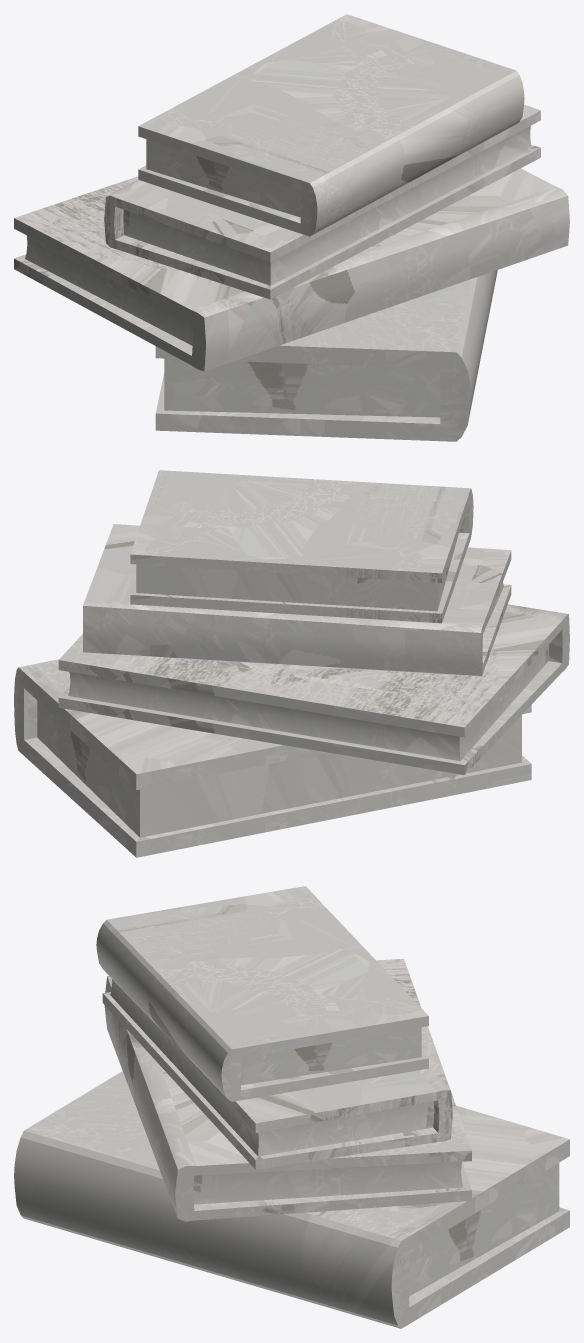
File: pilaBook.fbx
The picture shows the model from 3 angles, top to bottom: view 1: azimuth 30°, elevation 25°; view 2: azimuth 150°, elevation 25°; view 3: azimuth 270°, elevation 25°; orthographic projection. The views are drawn at different scales.
Visible parts, largest first — view 1: defaultMaterial.002, defaultMaterial.004, defaultMaterial.005, defaultMaterial.003; view 2: defaultMaterial.002, defaultMaterial.005, defaultMaterial.004, defaultMaterial.003; view 3: defaultMaterial.005, defaultMaterial.002, defaultMaterial.004, defaultMaterial.003.
Boxes of the visible parts, bbox=[...] form: defaultMaterial.002: bbox=[138, 14, 524, 236]; defaultMaterial.004: bbox=[14, 168, 569, 371]; defaultMaterial.005: bbox=[155, 270, 497, 441]; defaultMaterial.003: bbox=[104, 104, 540, 299]; defaultMaterial.002: bbox=[130, 470, 473, 623]; defaultMaterial.005: bbox=[14, 659, 531, 857]; defaultMaterial.004: bbox=[58, 604, 569, 774]; defaultMaterial.003: bbox=[83, 524, 511, 676]; defaultMaterial.005: bbox=[14, 1071, 569, 1328]; defaultMaterial.002: bbox=[96, 886, 428, 1101]; defaultMaterial.004: bbox=[104, 958, 471, 1221]; defaultMaterial.003: bbox=[102, 979, 452, 1169].
Bounding box in the file's own units: 54.63 × 27.03 × 54.74.
